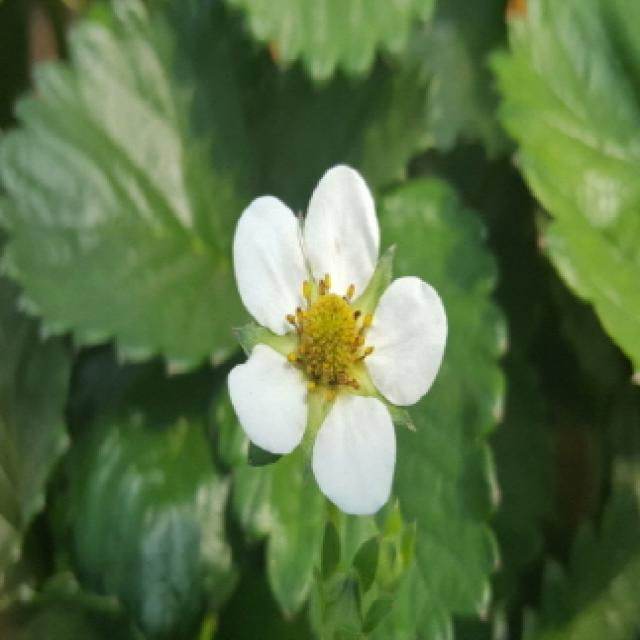Blossom Blight: (280, 270, 381, 407)
